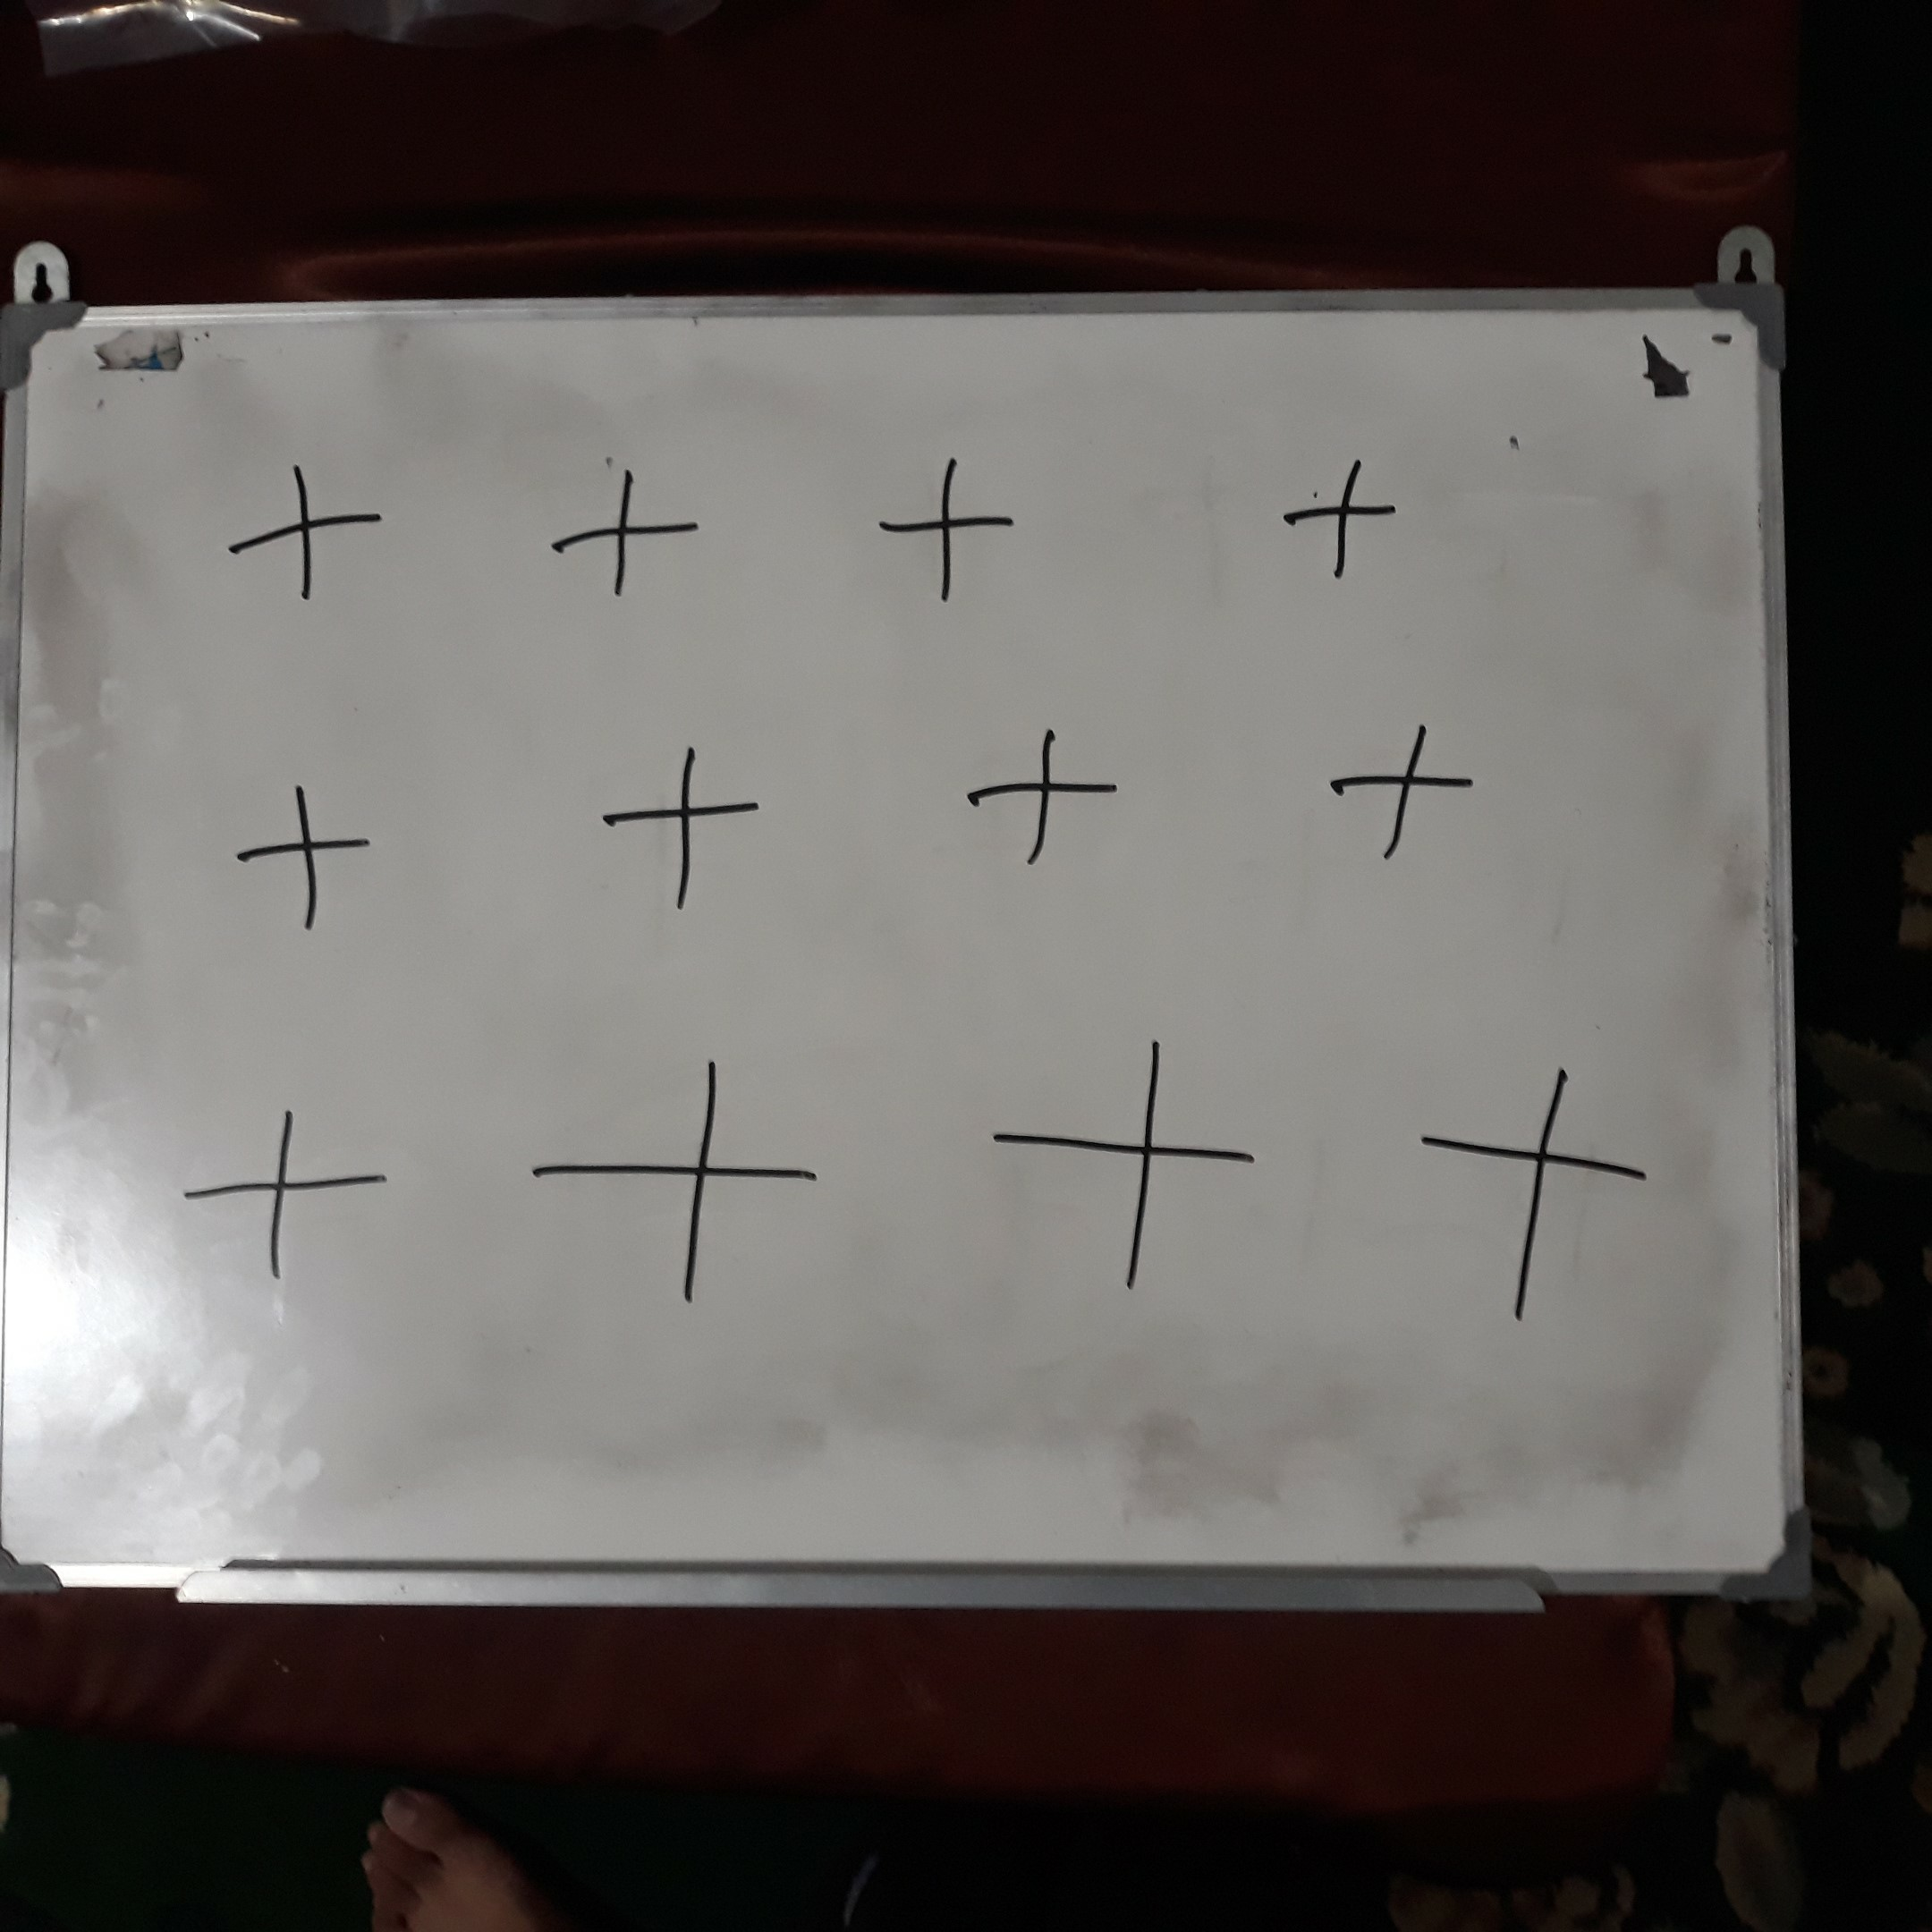sum: (516, 1045, 852, 1316), (972, 1019, 1284, 1307), (1384, 1048, 1696, 1336), (165, 1093, 401, 1300), (579, 716, 781, 927), (198, 437, 414, 620), (1308, 698, 1501, 877), (219, 758, 385, 951), (858, 448, 1037, 623), (528, 457, 717, 610), (956, 709, 1126, 878), (1260, 431, 1407, 596)
